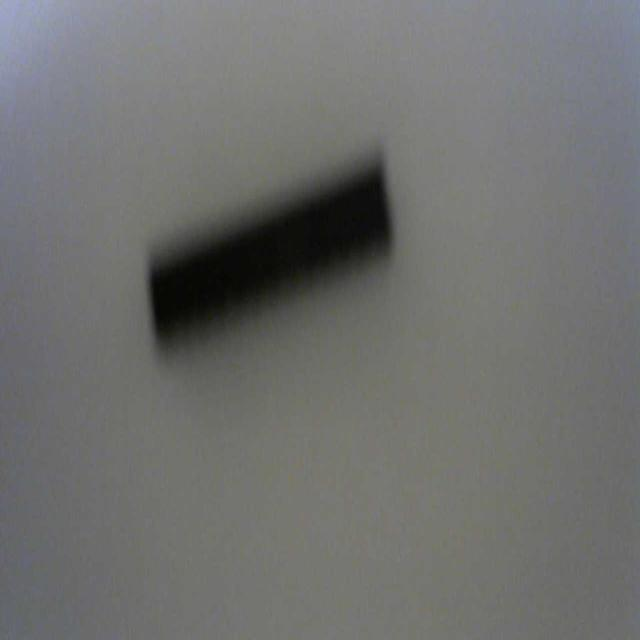atmega: (143, 142, 397, 352)
